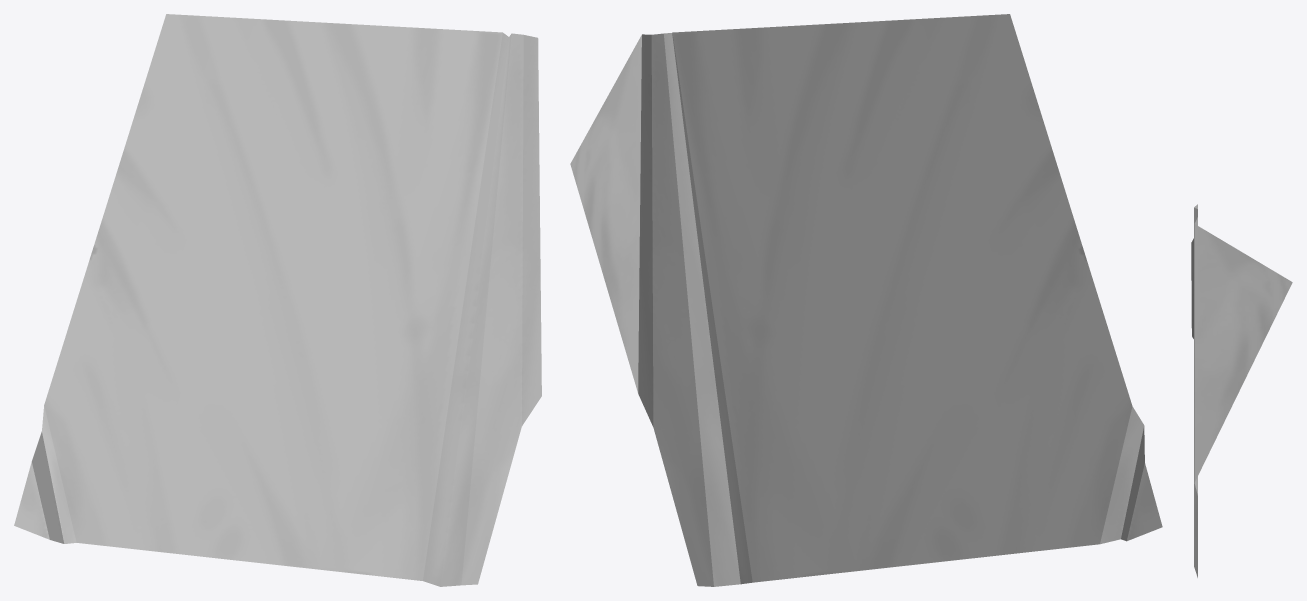
File: cornerTarp.glb
3 views of the same model, side by side, from view 1: azimuth 30°, elevation 25°; view 2: azimuth 150°, elevation 25°; view 3: azimuth 270°, elevation 25° (orthographic). The views are drawn at different scales.
Parts seen in each view (by area): view 1: Plane; view 2: Plane; view 3: Plane.
Part boxes in pixels (<box>): Plane: <box>14,14,541,586</box>; Plane: <box>570,14,1162,586</box>; Plane: <box>1191,204,1292,577</box>.
Bounding box in the file's own units: 107 × 126 × 24.91.
Materials: 1 (1 with a texture image).
